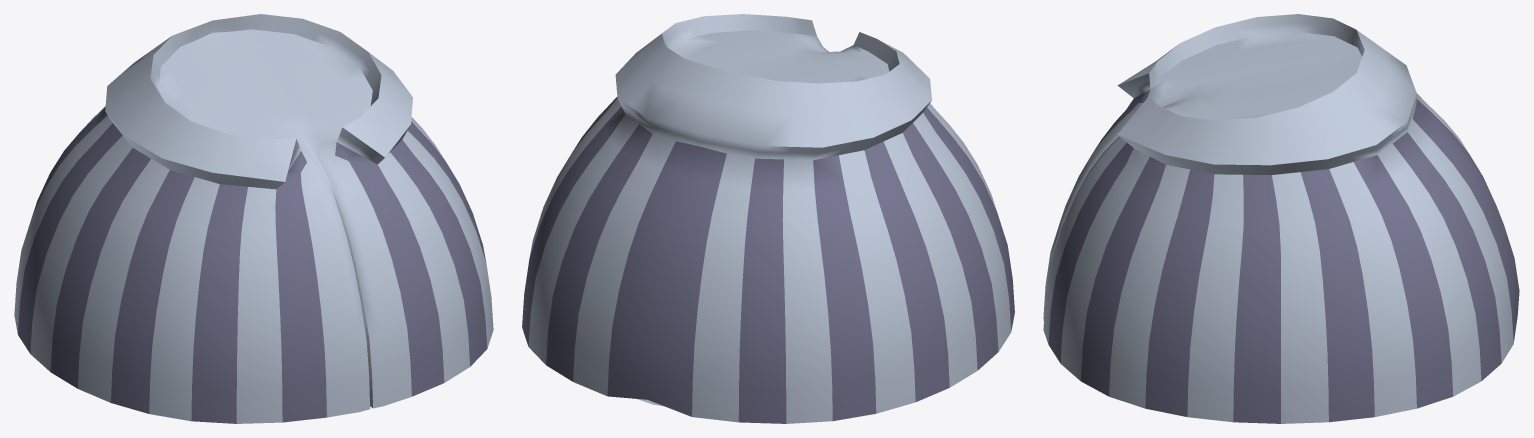
The picture shows the model from 3 angles, left to right: view 1: azimuth 30°, elevation 25°; view 2: azimuth 150°, elevation 25°; view 3: azimuth 270°, elevation 25°; orthographic projection. The views are drawn at different scales.
Parts seen in each view (by area): view 1: striped_shirt; view 2: striped_shirt; view 3: striped_shirt.
Part boxes in pixels (<box>): striped_shirt: <box>14,14,493,423</box>; striped_shirt: <box>522,14,1014,423</box>; striped_shirt: <box>1043,14,1519,423</box>.
Size of the model in its own units: 1.37 by 0.8732 by 1.38.
